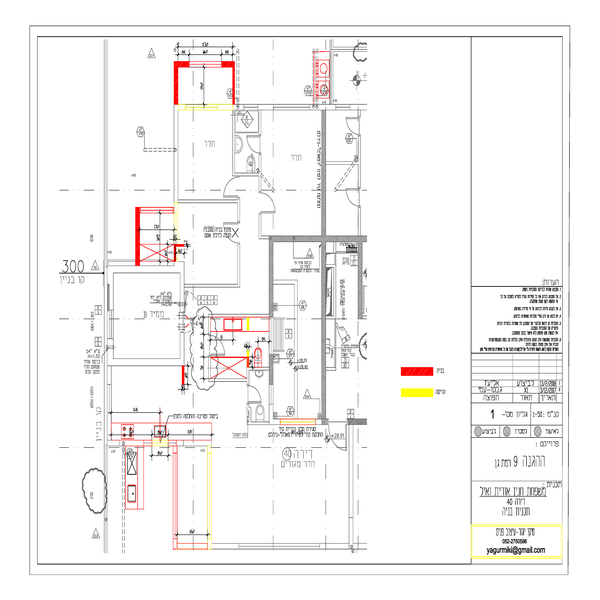door: (257, 187, 285, 219), (213, 174, 244, 202), (221, 220, 246, 247), (344, 113, 362, 138), (246, 133, 267, 153), (344, 183, 359, 207)
room: (235, 104, 328, 245), (263, 235, 327, 428), (104, 264, 184, 365), (172, 110, 241, 202)
wall: (321, 109, 328, 423), (108, 356, 184, 369), (107, 263, 185, 274), (356, 236, 365, 317), (272, 237, 365, 243), (269, 236, 275, 317), (177, 277, 186, 305), (269, 357, 277, 383), (347, 417, 367, 424)
